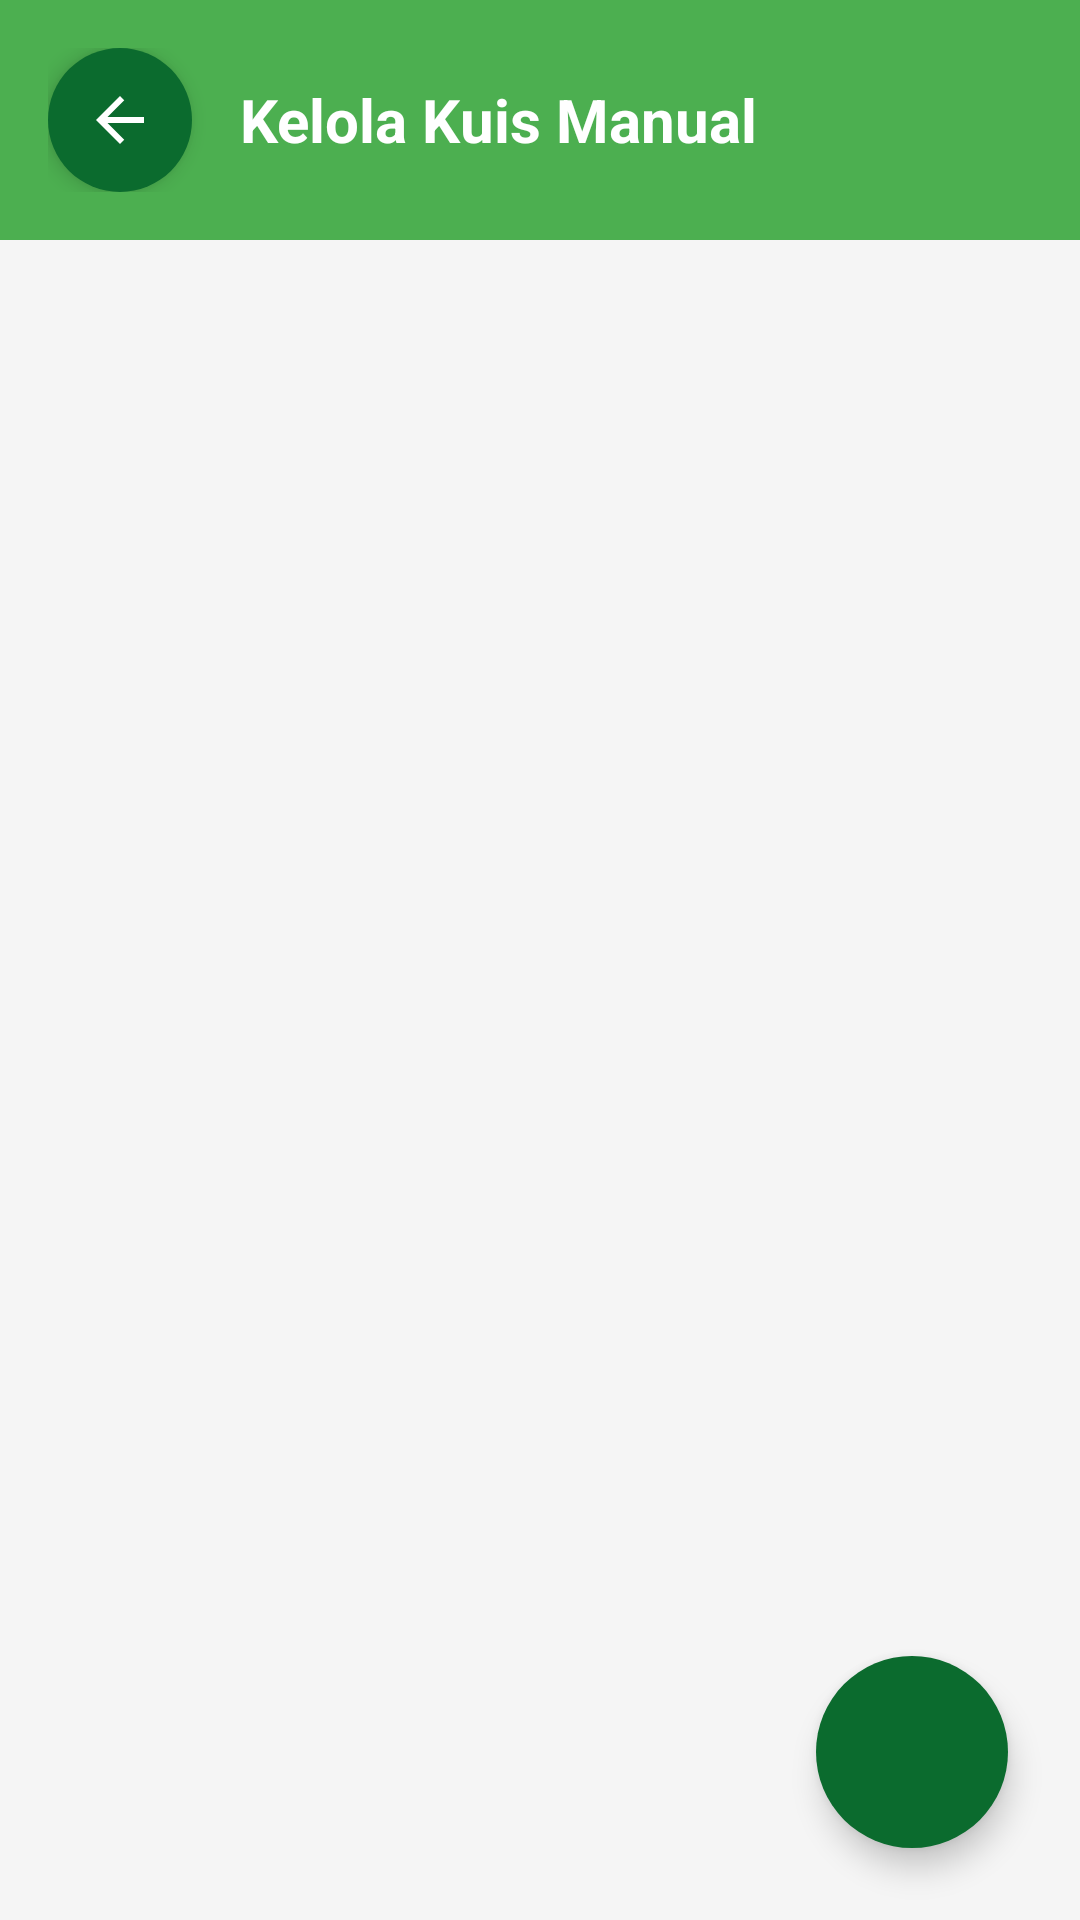

Locate icon controls on the screen. Image size 1080*1920, boxes as (x1, y1, x2, y2).
Back: (48, 48, 192, 192)
